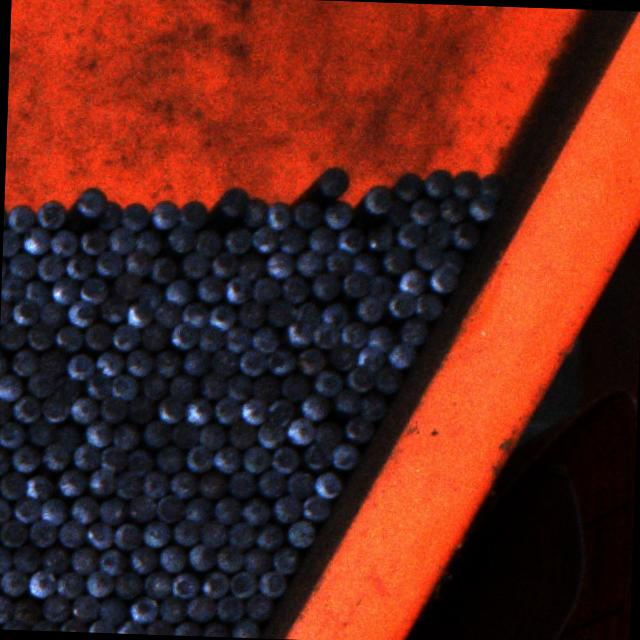tool: (75, 186, 107, 217), (35, 199, 65, 229), (218, 186, 248, 216), (292, 198, 322, 228), (328, 341, 358, 371), (396, 268, 428, 296), (149, 200, 178, 230), (65, 251, 95, 280), (69, 494, 98, 524), (142, 570, 172, 599), (240, 196, 268, 227), (154, 493, 183, 522), (120, 201, 148, 231), (178, 200, 206, 230), (318, 166, 348, 194), (324, 198, 352, 228), (382, 244, 412, 272), (372, 365, 402, 393), (10, 394, 40, 422), (270, 495, 300, 523), (182, 498, 212, 526), (423, 168, 452, 196), (366, 221, 394, 250), (21, 226, 50, 254), (237, 252, 266, 280), (99, 294, 128, 322), (85, 322, 114, 350), (41, 393, 69, 422), (67, 396, 96, 424), (256, 469, 285, 497), (27, 518, 55, 547), (264, 201, 291, 231), (395, 170, 422, 200), (452, 168, 479, 198), (408, 198, 438, 225), (277, 225, 307, 252), (300, 393, 330, 420), (97, 497, 127, 524), (39, 547, 69, 574), (41, 592, 68, 622), (6, 204, 34, 232), (364, 184, 392, 212), (429, 264, 457, 292), (49, 228, 77, 256), (107, 226, 135, 254), (181, 250, 209, 278), (280, 274, 308, 302), (51, 276, 79, 304), (196, 274, 224, 302), (224, 274, 252, 302), (266, 298, 294, 326), (170, 321, 198, 349), (312, 320, 340, 348), (340, 320, 368, 348), (65, 352, 93, 380), (238, 348, 266, 376), (251, 374, 279, 402), (26, 370, 54, 398), (126, 395, 154, 423), (286, 416, 314, 444), (304, 442, 332, 470), (140, 470, 168, 498), (128, 494, 156, 522), (58, 519, 86, 547), (113, 522, 141, 550), (227, 521, 255, 549), (255, 522, 283, 550), (70, 546, 98, 574), (98, 548, 126, 576), (214, 544, 242, 572), (257, 570, 285, 598), (26, 570, 54, 598), (84, 569, 112, 597), (113, 571, 141, 599), (200, 570, 228, 598), (228, 570, 256, 598), (10, 598, 38, 626), (128, 595, 156, 623), (186, 594, 214, 622), (307, 225, 336, 252), (312, 270, 339, 299), (65, 299, 94, 326), (398, 317, 427, 344), (367, 325, 396, 352), (313, 369, 342, 396), (256, 421, 285, 448), (96, 597, 125, 624), (94, 200, 120, 230), (386, 342, 416, 368), (266, 348, 296, 374), (425, 220, 452, 248), (168, 224, 195, 252), (194, 228, 222, 255), (336, 226, 364, 253), (36, 254, 64, 281), (342, 269, 370, 296), (356, 294, 384, 321), (252, 276, 280, 303), (79, 276, 107, 303), (236, 300, 264, 327), (112, 322, 139, 350), (140, 322, 168, 349), (225, 324, 252, 352), (286, 319, 313, 347), (296, 347, 324, 374), (36, 350, 64, 377), (182, 348, 210, 375), (358, 392, 385, 420), (158, 396, 185, 424), (214, 396, 241, 424), (314, 471, 342, 498), (286, 471, 313, 499), (227, 421, 255, 448), (212, 497, 240, 524), (286, 520, 314, 547), (168, 471, 196, 498), (56, 469, 84, 496), (11, 545, 39, 572), (158, 544, 185, 572), (271, 546, 298, 574), (55, 571, 83, 598), (70, 594, 98, 621), (158, 595, 186, 622), (214, 595, 242, 622), (356, 345, 385, 371), (344, 416, 373, 442), (154, 446, 183, 472), (94, 351, 124, 376), (210, 447, 240, 472), (251, 225, 278, 252), (124, 248, 151, 275), (266, 251, 293, 278), (37, 300, 64, 327), (199, 324, 226, 351), (125, 349, 152, 376), (153, 349, 180, 376), (169, 373, 196, 400), (99, 395, 126, 422), (271, 446, 298, 473), (98, 445, 125, 472), (227, 471, 254, 498), (186, 543, 213, 570), (452, 220, 478, 248), (134, 228, 160, 256), (414, 292, 442, 318), (386, 291, 414, 317), (8, 252, 36, 278), (94, 250, 122, 276), (294, 249, 322, 275), (113, 272, 141, 298), (164, 278, 192, 304), (152, 301, 180, 327), (207, 304, 235, 330), (320, 301, 348, 327), (0, 321, 26, 349), (54, 325, 82, 351), (210, 350, 238, 376), (280, 374, 308, 400), (184, 398, 212, 424), (267, 398, 293, 426), (313, 422, 341, 448), (242, 446, 270, 472), (10, 446, 38, 472), (41, 442, 67, 470), (240, 498, 268, 524), (24, 474, 52, 500), (0, 518, 26, 546), (130, 546, 156, 574), (242, 547, 270, 573), (244, 593, 272, 619), (170, 572, 198, 598), (396, 221, 425, 246), (479, 172, 505, 199), (325, 248, 352, 274), (11, 298, 38, 324), (252, 326, 279, 352), (346, 365, 373, 391), (110, 372, 137, 398), (331, 442, 358, 468), (185, 445, 211, 472), (72, 443, 98, 470), (125, 448, 151, 475), (198, 472, 225, 498), (87, 468, 114, 494), (38, 498, 65, 524), (12, 495, 38, 522), (142, 520, 168, 547), (172, 518, 198, 545), (200, 520, 226, 547), (0, 568, 26, 595), (438, 196, 466, 221), (24, 278, 49, 306), (180, 301, 208, 326), (25, 324, 53, 349), (300, 495, 328, 520), (197, 424, 225, 449), (80, 228, 106, 254), (224, 227, 250, 253), (368, 274, 394, 300), (125, 300, 151, 326), (11, 348, 37, 374), (225, 374, 251, 400), (111, 423, 137, 449), (142, 419, 168, 445), (86, 522, 112, 548), (412, 244, 440, 268), (169, 423, 197, 447), (468, 194, 493, 220), (294, 300, 320, 325), (240, 398, 266, 423), (54, 426, 80, 451), (352, 252, 379, 276), (150, 255, 174, 282), (85, 422, 112, 446), (0, 472, 24, 499), (114, 471, 138, 498), (384, 200, 408, 226), (212, 250, 236, 276), (136, 284, 162, 308), (334, 388, 360, 412), (200, 373, 224, 399), (87, 373, 111, 399), (142, 374, 166, 399), (0, 421, 23, 447), (230, 617, 258, 638), (26, 422, 51, 445), (1, 274, 23, 300), (0, 374, 21, 401), (440, 250, 464, 272), (2, 228, 20, 256), (144, 618, 172, 635), (172, 620, 200, 636), (200, 621, 227, 637), (58, 617, 86, 632), (88, 618, 115, 633), (116, 619, 142, 634), (0, 545, 11, 573), (0, 594, 11, 622), (0, 297, 11, 324), (0, 397, 10, 424), (0, 496, 8, 524), (0, 447, 7, 474)
tool_b: (54, 377, 79, 403)
